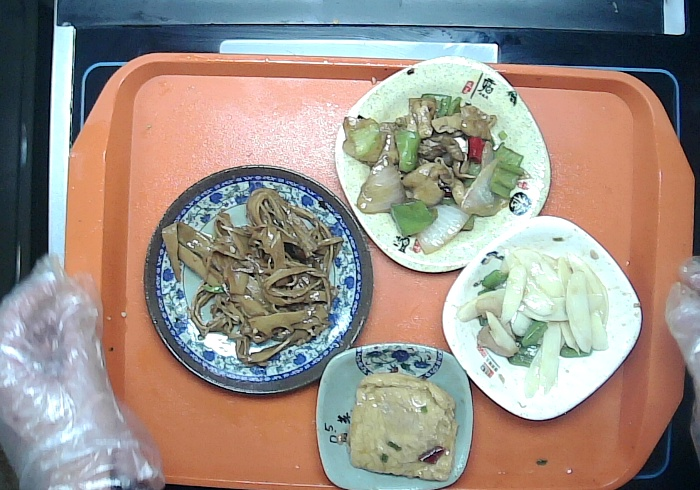NLDX-Bai_Se_Xiao_Fang_Die: (443, 214, 641, 419)
NLDX-Fu_Zi_Fang_Die: (333, 54, 549, 277)
NLDX-Qing_Hua_Xiao_Fang_Die: (316, 342, 473, 490)
NLDX-Qing_Hua_Yuan_Die: (143, 163, 372, 398)
